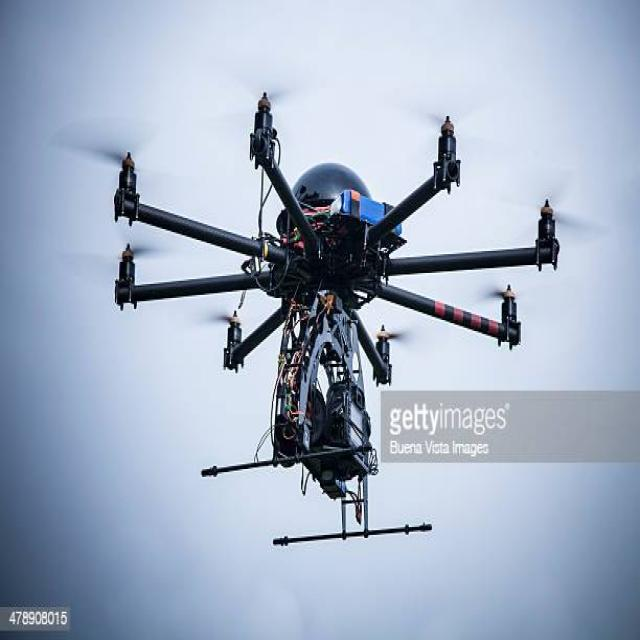drone: (69, 50, 598, 580)
